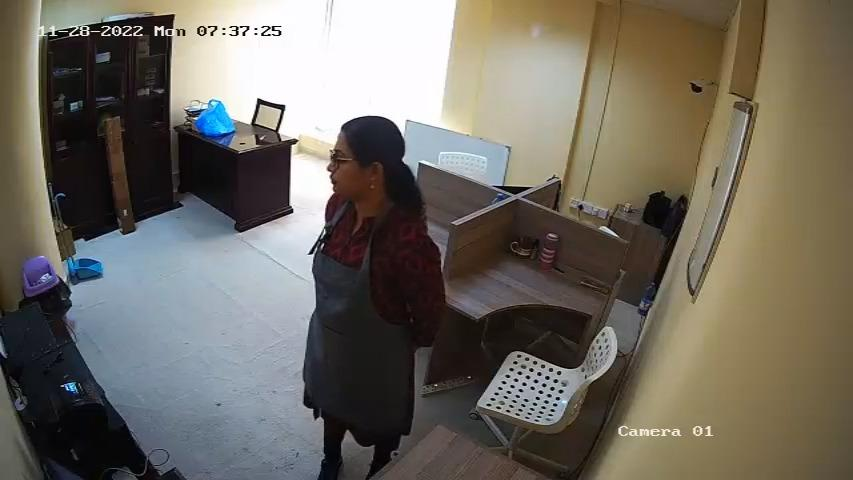apron: (299, 206, 416, 416)
